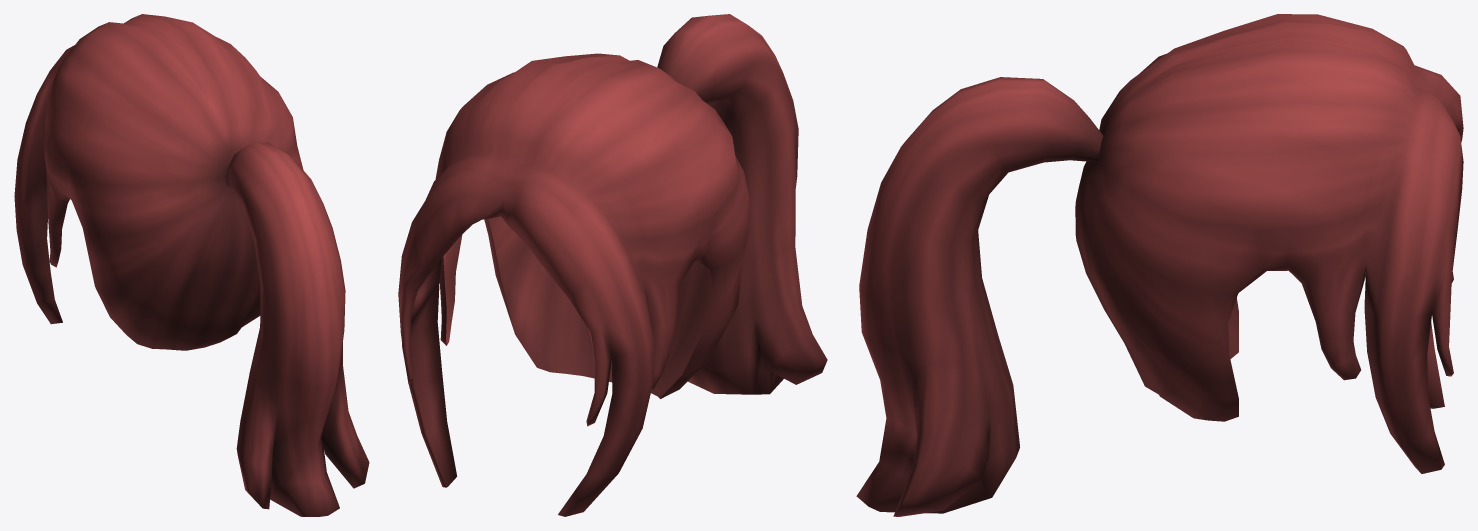
File: Hair_Female_002_textured_red.glb
3 views of the same model, side by side, from view 1: azimuth 30°, elevation 25°; view 2: azimuth 150°, elevation 25°; view 3: azimuth 270°, elevation 25° (orthographic). The views are drawn at different scales.
Visible parts, largest first — view 1: Hair_Female_002; view 2: Hair_Female_002; view 3: Hair_Female_002.
Boxes of the visible parts, box(x1,y1,x2,y2) form: Hair_Female_002: box(14, 14, 369, 516); Hair_Female_002: box(398, 14, 827, 516); Hair_Female_002: box(856, 14, 1463, 516).
Bounding box in the file's own units: 0.1741 × 0.2888 × 0.3351.
Materials: 1 (1 with a texture image).
